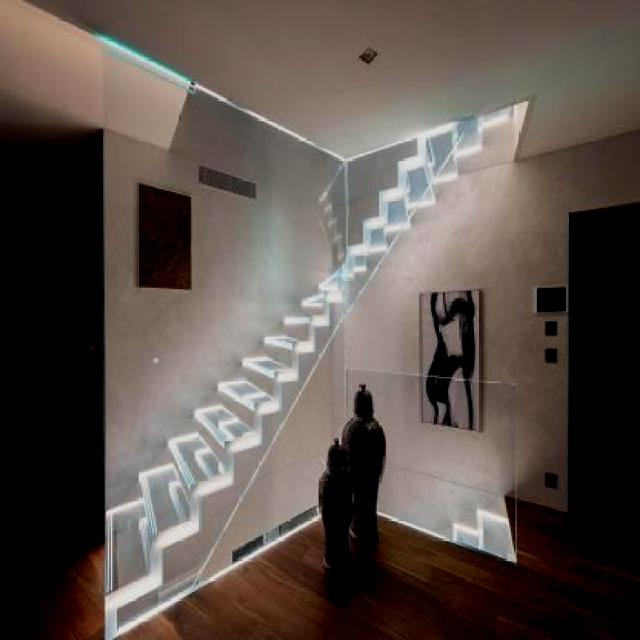stair: (83, 155, 340, 610), (344, 116, 478, 284)
